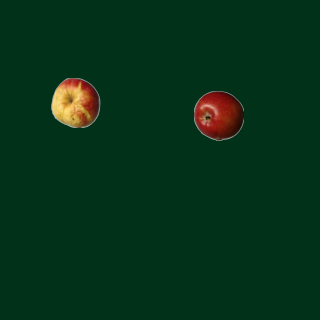Apple Braeburn: (193, 90, 243, 140)
Apple Red Yellow 1: (50, 77, 100, 127)
